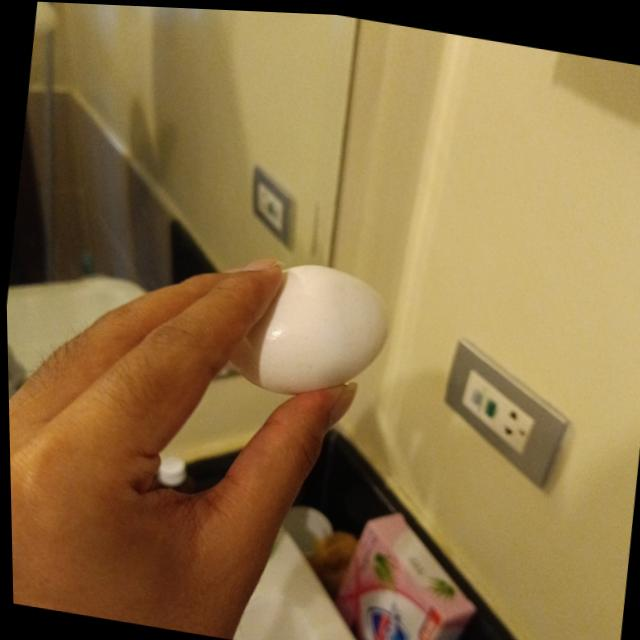egg: (223, 250, 394, 405)
